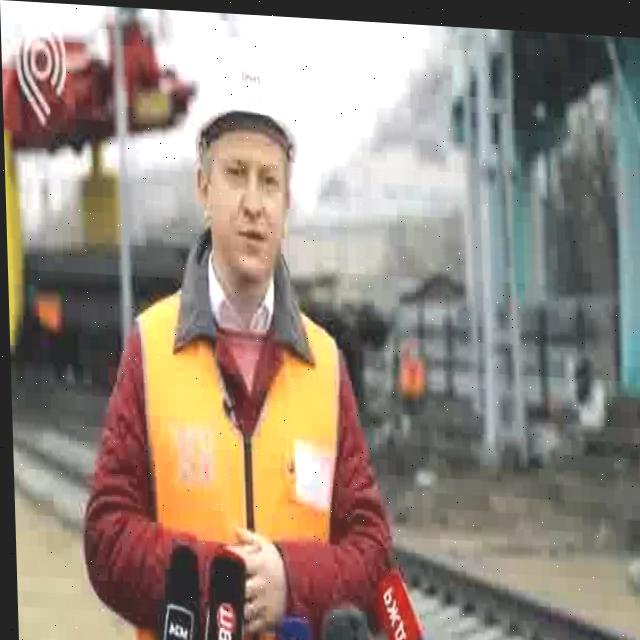Gloves: (215, 522, 288, 635)
Helmet: (191, 35, 300, 158)
Safety-Vest: (124, 285, 348, 640)
